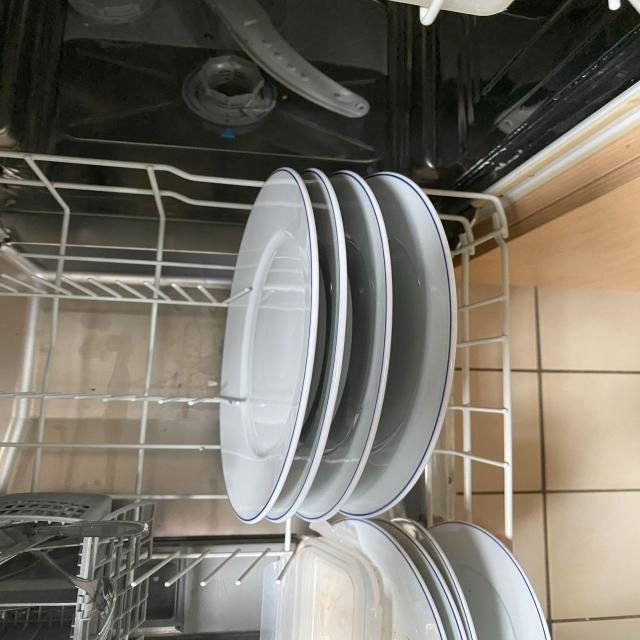clutery_bin: (2, 514, 77, 625)
empty_slot: (3, 160, 227, 502)
